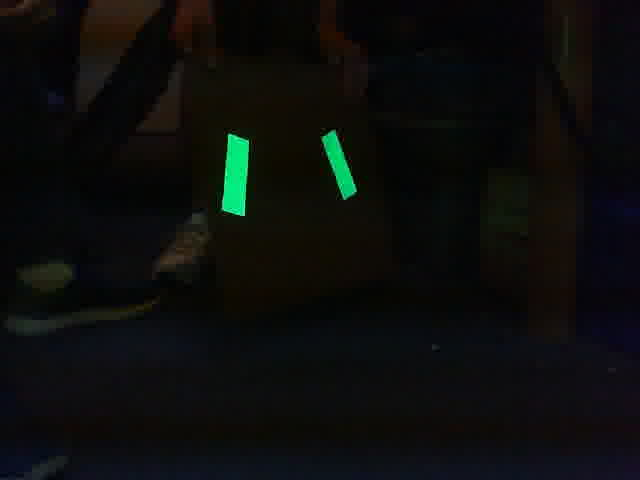target: (221, 130, 357, 219)
